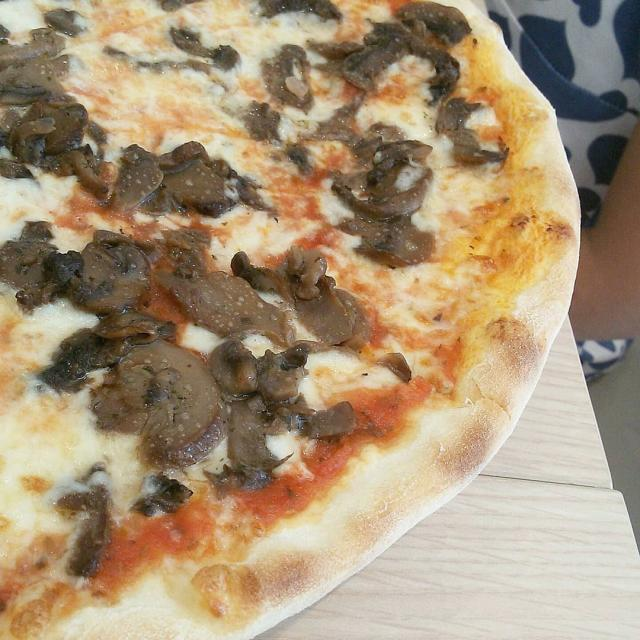mushrooms: (212, 337, 364, 492), (311, 110, 448, 272), (91, 343, 226, 471), (164, 232, 300, 348), (108, 144, 276, 226), (308, 22, 460, 106), (284, 225, 383, 352), (0, 100, 117, 207), (34, 317, 180, 395), (89, 226, 179, 344), (0, 216, 89, 317), (52, 464, 120, 586), (0, 19, 87, 111), (99, 24, 241, 79), (430, 91, 513, 174), (244, 92, 320, 178), (255, 43, 323, 116), (396, 0, 470, 51), (130, 470, 197, 519), (251, 0, 352, 22), (41, 6, 88, 40), (374, 348, 418, 383), (156, 0, 214, 15)
pizza: (0, 0, 577, 639)
